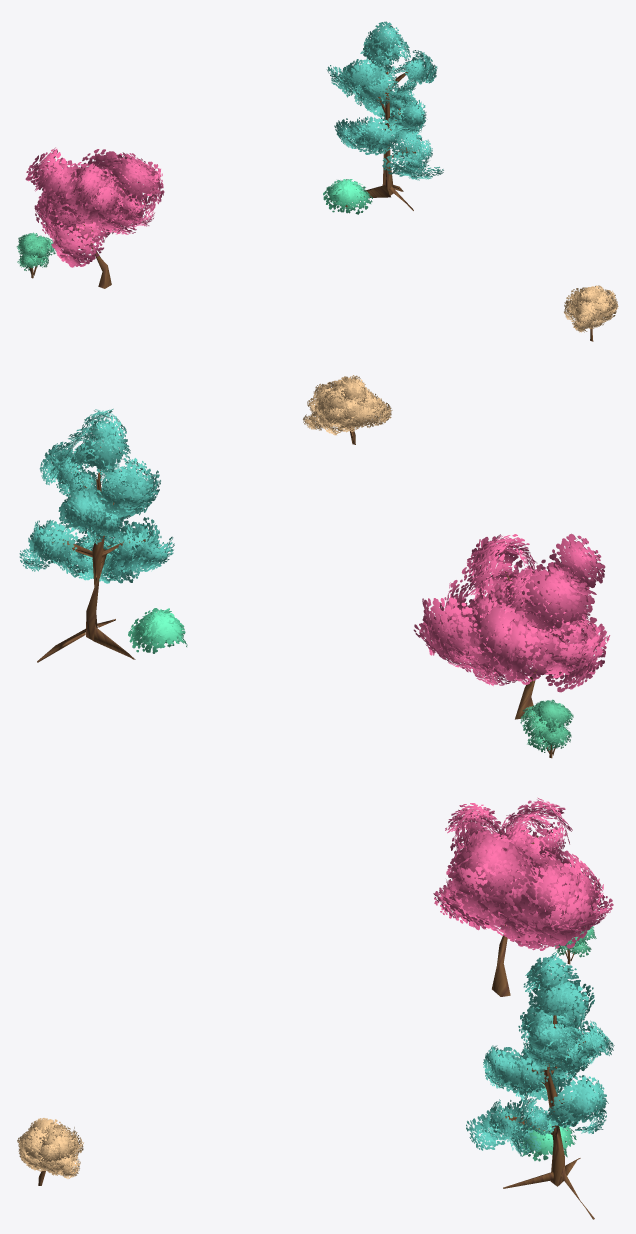
The model's file is yard_trees.glb.
3 views of the same model, one above another, from view 1: azimuth 30°, elevation 25°; view 2: azimuth 150°, elevation 25°; view 3: azimuth 270°, elevation 25° (orthographic). The views are drawn at different scales.
Parts seen in each view (by area): view 1: Tree02_LOD01, Tree03_LOD1.001, Tree01_LOD01, LOD1.001, Bush02_LOD1; view 2: Tree02_LOD01, Tree03_LOD1.001, Tree01_LOD01, Bush02_LOD1, LOD1.001; view 3: Tree02_LOD01, Tree03_LOD1.001, Tree01_LOD01, LOD1.001.
Boxes of the visible parts, x1,y1,x2,y2 form: Tree02_LOD01: (25, 147, 164, 288); Tree03_LOD1.001: (326, 21, 443, 210); Tree01_LOD01: (564, 285, 618, 341); LOD1.001: (323, 179, 372, 214); Bush02_LOD1: (16, 232, 56, 278); Tree02_LOD01: (413, 533, 610, 719); Tree03_LOD1.001: (19, 408, 174, 662); Tree01_LOD01: (303, 375, 392, 444); Bush02_LOD1: (520, 699, 573, 758); LOD1.001: (128, 608, 187, 653); Tree02_LOD01: (433, 797, 613, 996); Tree03_LOD1.001: (466, 952, 614, 1219); Tree01_LOD01: (17, 1118, 83, 1185); LOD1.001: (519, 1117, 576, 1161).
Bounding box in the file's own units: 31.31 × 13.78 × 30.41.
8 materials, 8 textured.
